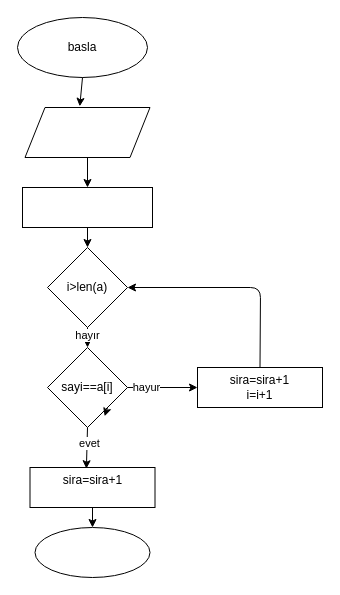
Some shapes in this 340 by 595 pixel diagram are drawn without their labels. Each missing label, with the box of its shape:
bitir: (34, 526, 150, 578)
sayi: (24, 106, 150, 158)
sira=0 i=0 a[10].: (22, 186, 152, 228)
